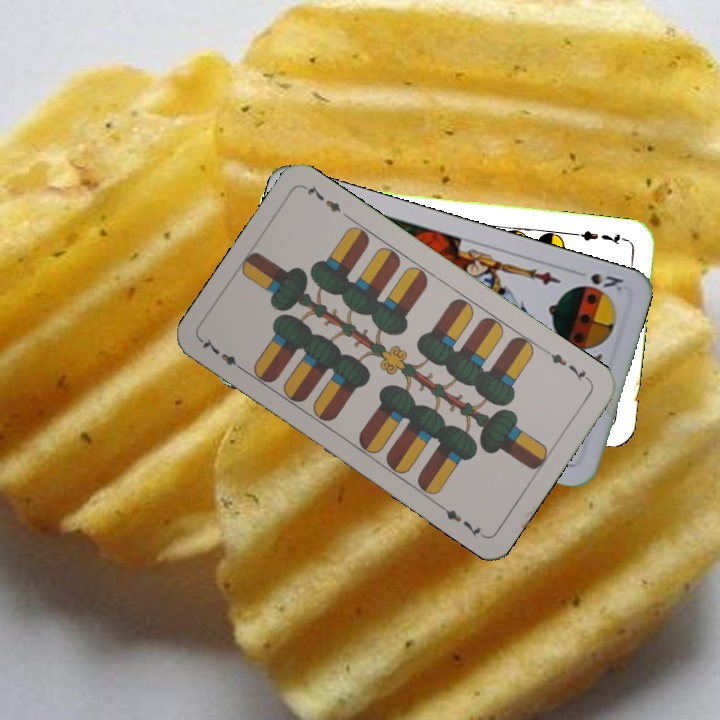E7: (197, 334, 249, 375), (542, 345, 593, 385), (571, 227, 630, 248)
SK: (586, 269, 626, 294)
